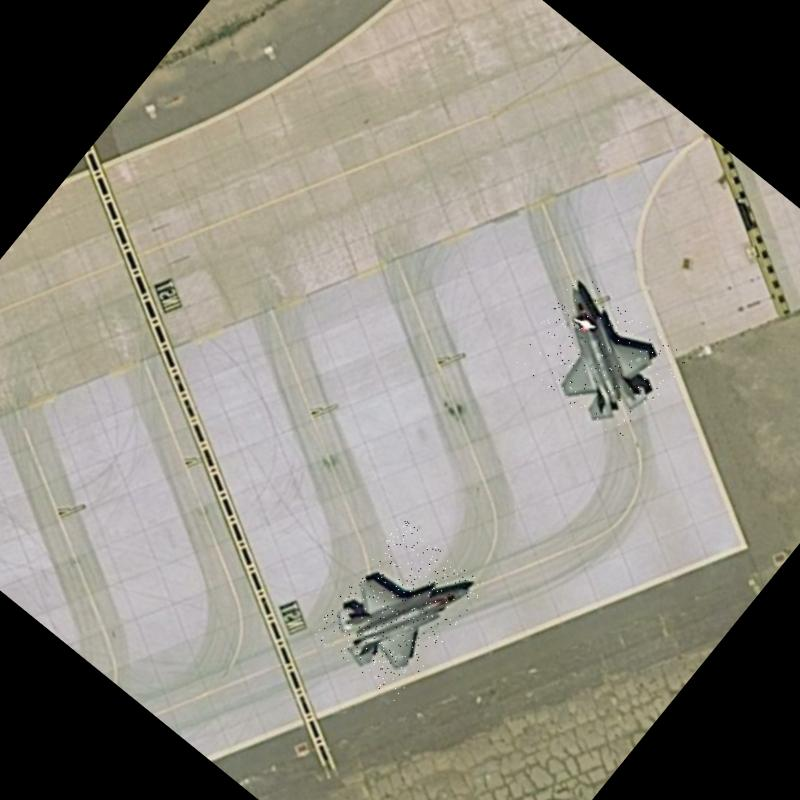A15: (309, 518, 487, 702), (510, 270, 689, 446)
